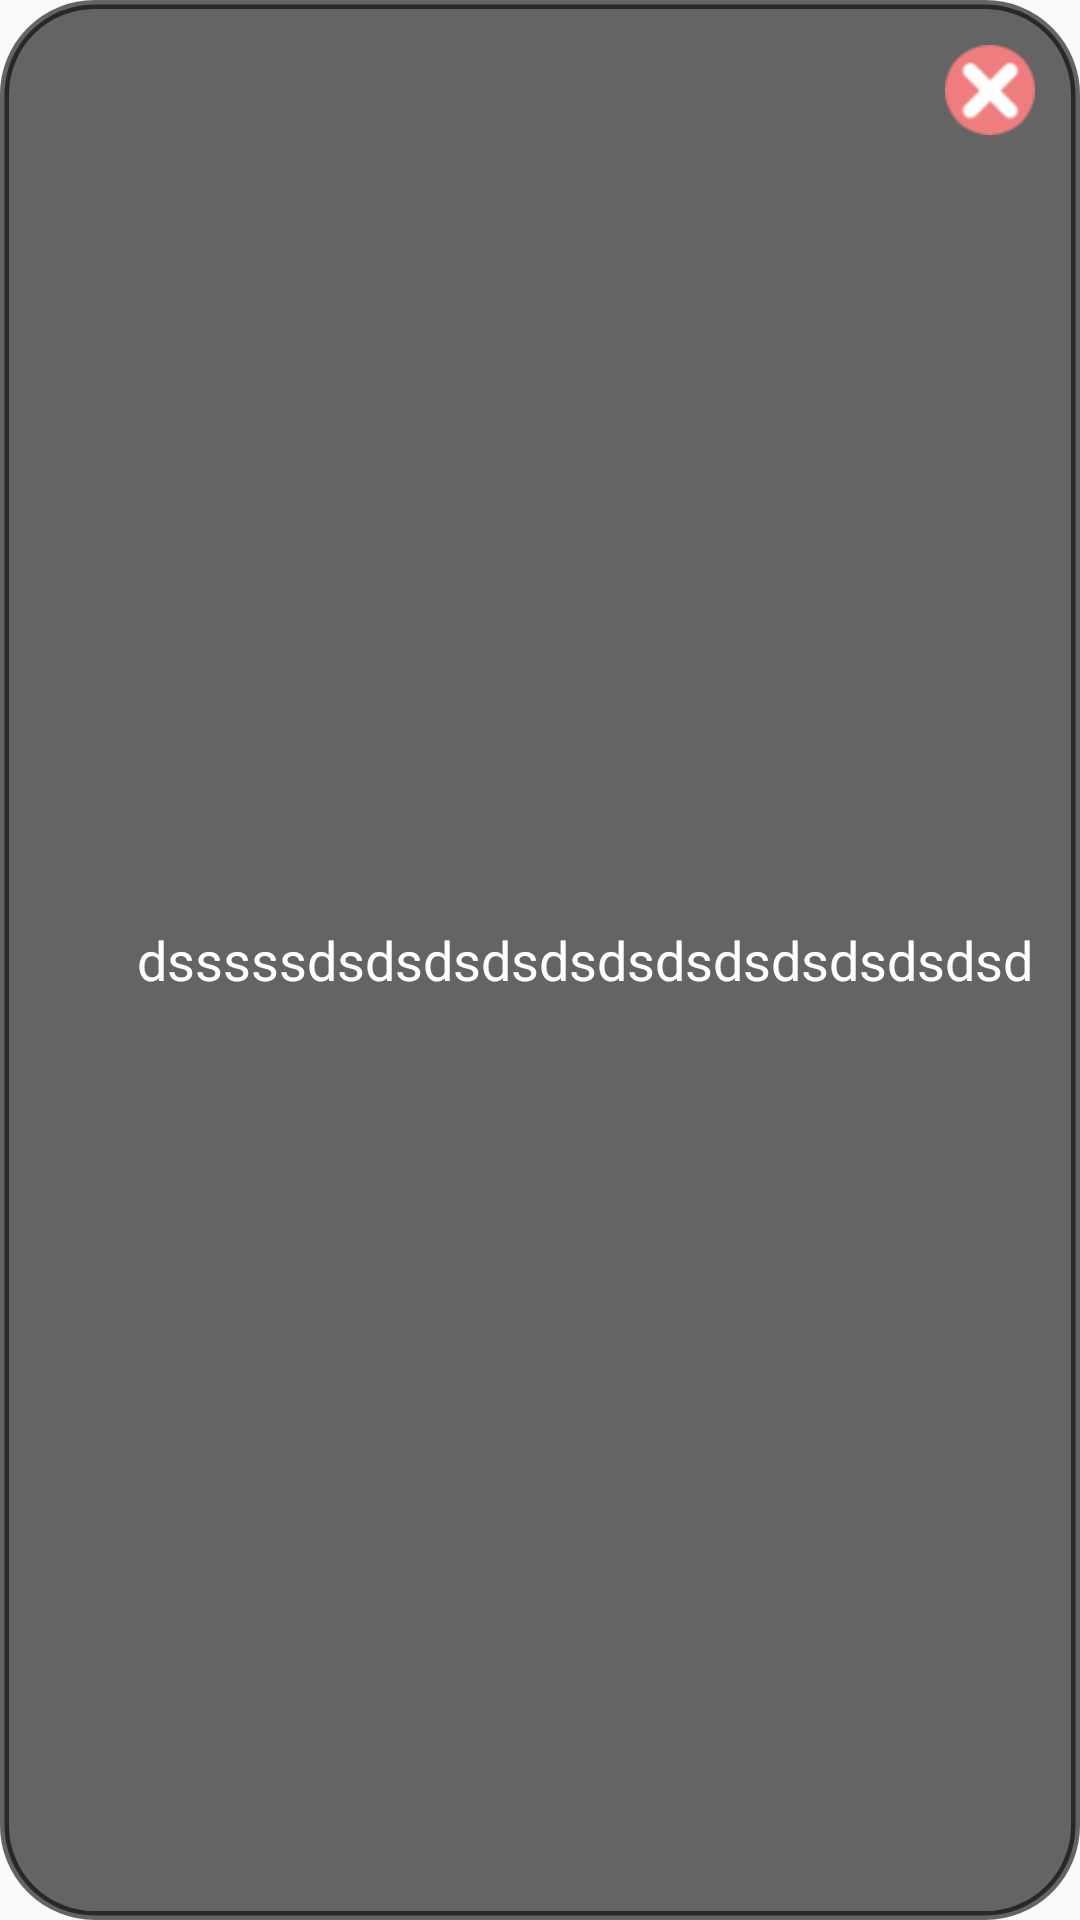

Where to tap for icons on this 1080×1920 app screen, as [x,y]:
close: [990,90]
